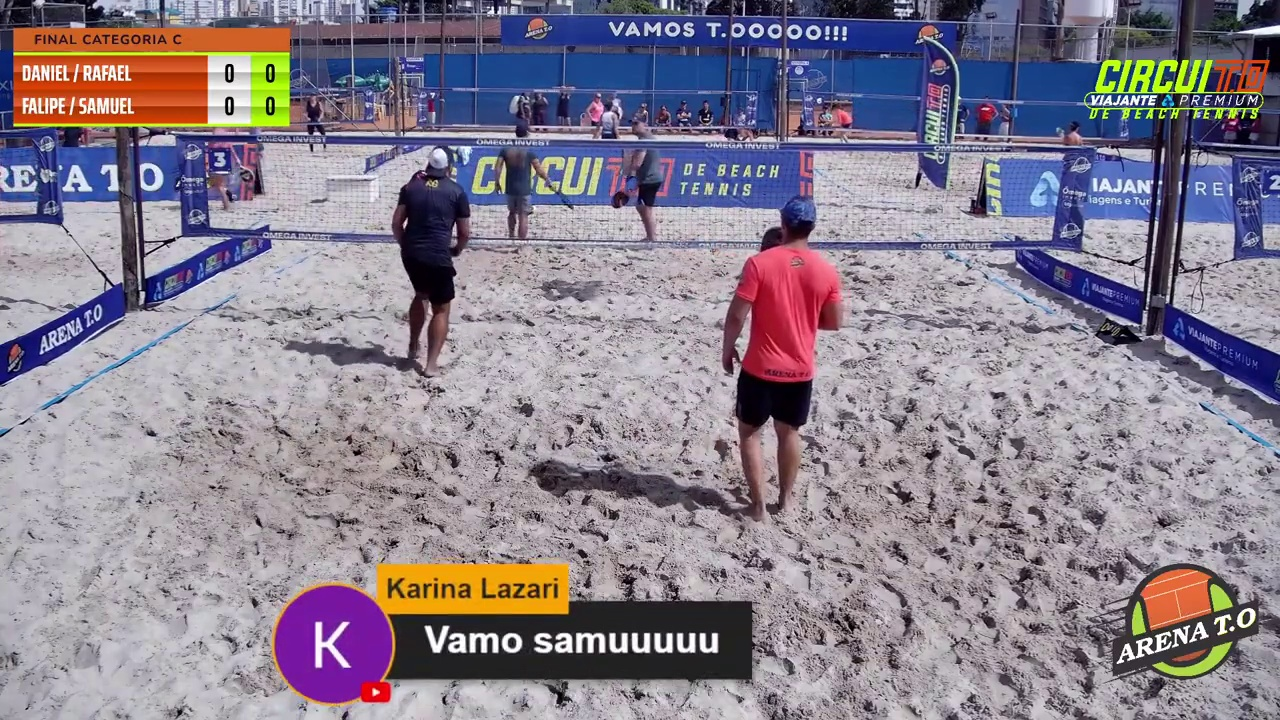court_line: (636, 0, 779, 423)
